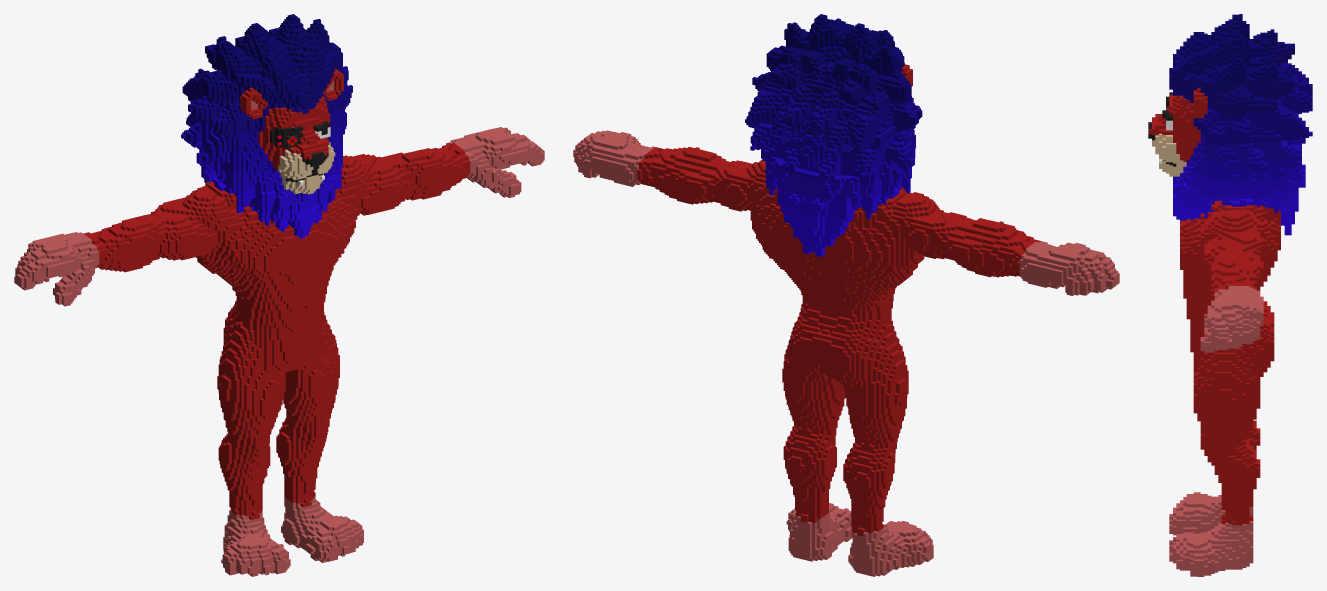
File: 207-BUP64L6I.glb
3 views of the same model, side by side, from view 1: azimuth 30°, elevation 25°; view 2: azimuth 150°, elevation 25°; view 3: azimuth 270°, elevation 25° (orthographic). The views are drawn at different scales.
Visible parts, largest first — view 1: standard; view 2: standard; view 3: standard.
Boxes of the visible parts, <box> form: standard: <box>14,14,544,576</box>; standard: <box>573,14,1119,576</box>; standard: <box>1148,14,1312,576</box>.
Size of the model in its own units: 17.2 by 16.5 by 4.7.
Materials: 4 (4 with a texture image).
